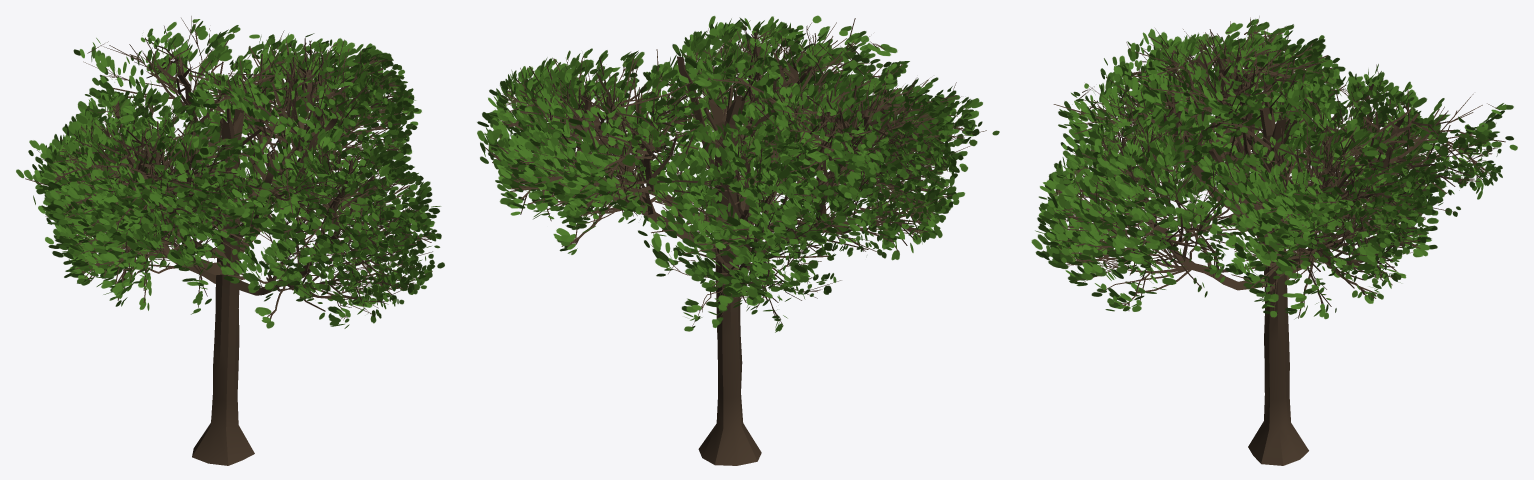
The picture shows the model from 3 angles, left to right: view 1: azimuth 30°, elevation 25°; view 2: azimuth 150°, elevation 25°; view 3: azimuth 270°, elevation 25°; orthographic projection. The views are drawn at different scales.
Visible parts, largest first — view 1: oak 01.001_trunk_Mat.001_0.040; view 2: oak 01.001_trunk_Mat.001_0.040; view 3: oak 01.001_trunk_Mat.001_0.040.
Part boxes in pixels (x1,y1,x2,y2): oak 01.001_trunk_Mat.001_0.040: [16, 16, 444, 465]; oak 01.001_trunk_Mat.001_0.040: [477, 15, 999, 465]; oak 01.001_trunk_Mat.001_0.040: [1031, 16, 1517, 465].
Size of the model in its own units: 6.62 by 5.63 by 6.9.
Materials: 2 (1 with a texture image).
